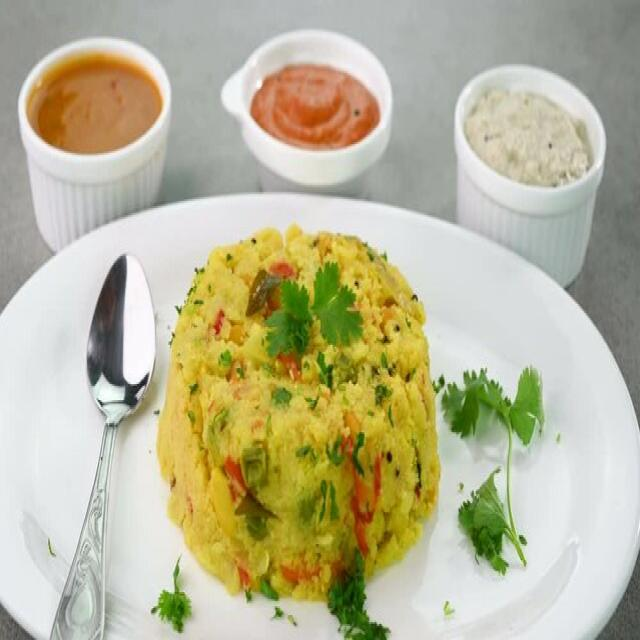UPMA: (157, 226, 440, 599)
